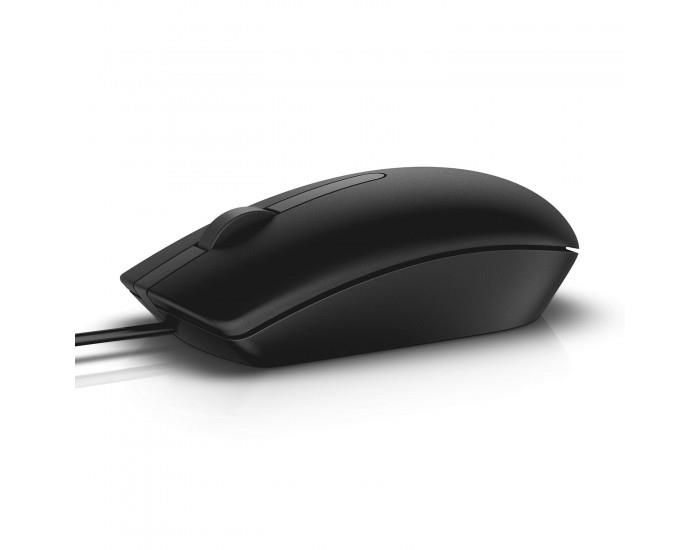dell-mouse-ms116: (72, 151, 585, 381)
